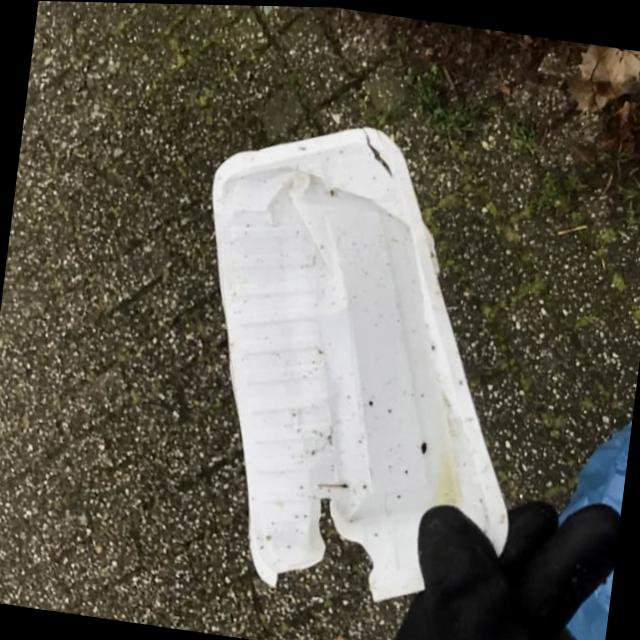Plastic: (157, 98, 561, 626)
